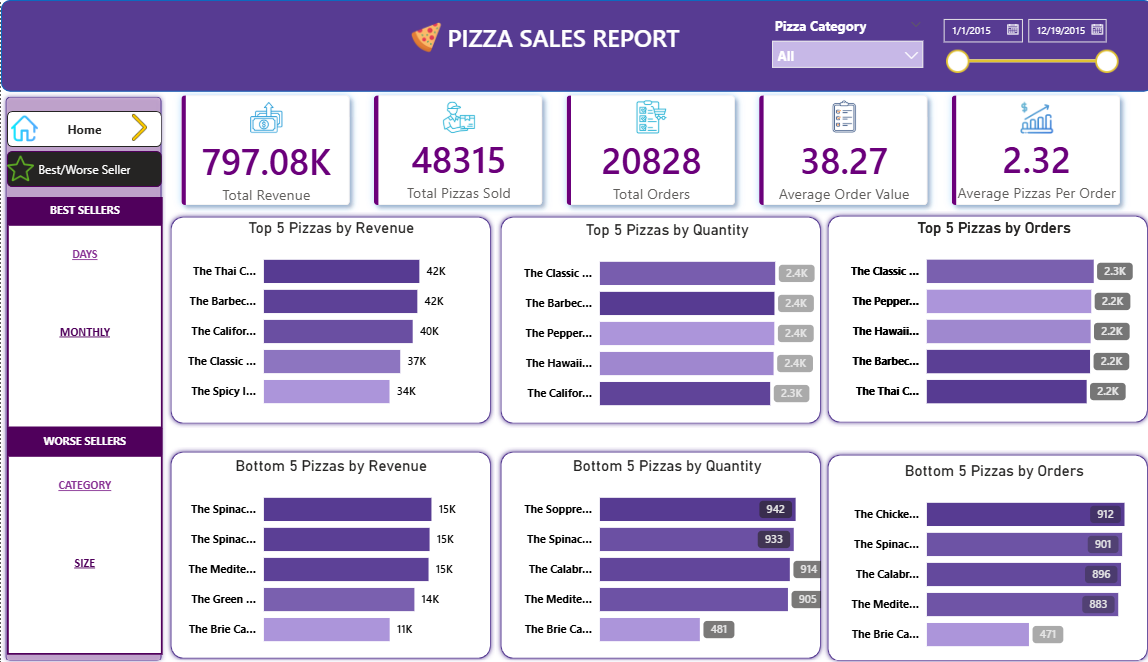

This screenshot's page, from the dashboard's own definition file:
{"tool":"powerbi","page":{"name":"Best/Worse Seller","canvas":[1280,740],"ordinal":1},"visuals":[{"type":"shape","box":[0,101.9,183.5,638.1],"z":0},{"type":"cardVisual","fields":{"Data":["pizza_sales.Total Revenue","pizza_sales.Total Pizzas Sold","pizza_sales.Total Orders","pizza_sales.Average Order Value","pizza_sales.Average Pizzas Per Order"]},"box":[183.5,89.4,1081.1,156.6],"z":1000},{"type":"shape","box":[0,0,1280,101.9],"z":2000},{"type":"textbox","box":[491.1,18.3,271,46.1],"z":3000},{"type":"image","box":[454.5,24,36.5,33.6],"z":4000},{"type":"shape","box":[183.5,235.4,366.1,240.2],"z":5000},{"type":"textbox","box":[6.7,219.1,173,29.8],"z":6000},{"type":"textbox","box":[6.7,248.9,173,226.8],"z":7000},{"type":"textbox","box":[6.7,475.7,173,29.8],"z":8000},{"type":"textbox","box":[6.7,505.5,173,222],"z":9000},{"type":"slicer","fields":{"Values":["pizza_sales.pizza_category"]},"box":[846.6,13.5,188.3,68.2],"z":10000},{"type":"slicer","fields":{"Values":["pizza_sales.order_date"]},"box":[1035,10.6,221,79.8],"z":11000},{"type":"shape","box":[549.7,235.4,366.1,240.2],"z":12000},{"type":"shape","box":[913.9,234.5,366.1,240.2],"z":13000},{"type":"shape","box":[183.5,496.8,366.1,240.2],"z":14000},{"type":"shape","box":[549.7,496.8,366.1,240.2],"z":15000},{"type":"shape","box":[913.9,499.7,366.1,240.2],"z":16000},{"type":"barChart","title":"Top 5 Pizzas by Revenue","fields":{"Category":["pizza_sales.pizza_name"],"Y":["pizza_sales.Total Revenue"]},"box":[191.2,243.1,351.7,223.9],"z":17000},{"type":"barChart","title":"Bottom 5 Pizzas by Revenue","fields":{"Category":["pizza_sales.pizza_name"],"Y":["pizza_sales.Total Revenue"]},"box":[191.2,507.4,351.7,223.9],"z":18000},{"type":"barChart","title":"Top 5 Pizzas by Quantity","fields":{"Category":["pizza_sales.pizza_name"],"Y":["pizza_sales.Total Pizzas Sold"]},"box":[564.1,246,351.7,223.9],"z":19000},{"type":"barChart","title":"Bottom 5 Pizzas by Quantity","fields":{"Category":["pizza_sales.pizza_name"],"Y":["pizza_sales.Total Pizzas Sold"]},"box":[564.1,507.4,351.7,223.9],"z":20000},{"type":"barChart","title":"Top 5 Pizzas by Orders","fields":{"Category":["pizza_sales.pizza_name"],"Y":["pizza_sales.Total Orders"]},"box":[928.3,243.1,351.7,223.9],"z":21000},{"type":"barChart","title":"Top 5 Pizzas by Orders","fields":{"Category":["pizza_sales.pizza_name"],"Y":["pizza_sales.Total Orders"]},"box":[928.3,243.1,351.7,223.9],"z":22000},{"type":"barChart","title":"Bottom 5 Pizzas by Orders","fields":{"Category":["pizza_sales.pizza_name"],"Y":["pizza_sales.Total Orders"]},"box":[928.3,513.2,351.7,223.9],"z":23000},{"type":"pageNavigator","box":[6.7,168.2,172,40.4],"z":24000},{"type":"pageNavigator","box":[6.7,123,172,40.4],"z":25000},{"type":"image","box":[10.6,126.8,29.8,32.7],"z":26000},{"type":"image","box":[6.7,171.1,29.8,32.7],"z":27000},{"type":"image","box":[139.3,125.9,29.8,32.7],"z":28000}]}

Visuals, with their boxes in screenshot pixels (x1, y1, x2, y2), scaled from the page's 1280x740 canvas onto the 1148x662 screenshot:
shape: (0, 91, 165, 661)
cardVisual - pizza_sales.Total Revenue x pizza_sales.Total Pizzas Sold: (165, 80, 1134, 220)
shape: (0, 0, 1147, 91)
textbox: (440, 16, 684, 58)
image: (408, 21, 440, 52)
shape: (165, 211, 493, 425)
textbox: (6, 196, 161, 223)
textbox: (6, 223, 161, 426)
textbox: (6, 426, 161, 452)
textbox: (6, 452, 161, 651)
slicer - pizza_sales.pizza_category: (759, 12, 928, 73)
slicer - pizza_sales.order_date: (928, 9, 1126, 81)
shape: (493, 211, 821, 425)
shape: (820, 210, 1147, 425)
shape: (165, 444, 493, 659)
shape: (493, 444, 821, 659)
shape: (820, 447, 1147, 661)
"Top 5 Pizzas by Revenue" barChart: (171, 217, 487, 418)
"Bottom 5 Pizzas by Revenue" barChart: (171, 454, 487, 654)
"Top 5 Pizzas by Quantity" barChart: (506, 220, 821, 420)
"Bottom 5 Pizzas by Quantity" barChart: (506, 454, 821, 654)
"Top 5 Pizzas by Orders" barChart: (833, 217, 1147, 418)
"Top 5 Pizzas by Orders" barChart: (833, 217, 1147, 418)
"Bottom 5 Pizzas by Orders" barChart: (833, 459, 1147, 659)
pageNavigator: (6, 150, 160, 187)
pageNavigator: (6, 110, 160, 146)
image: (10, 113, 36, 143)
image: (6, 153, 33, 182)
image: (125, 113, 152, 142)
